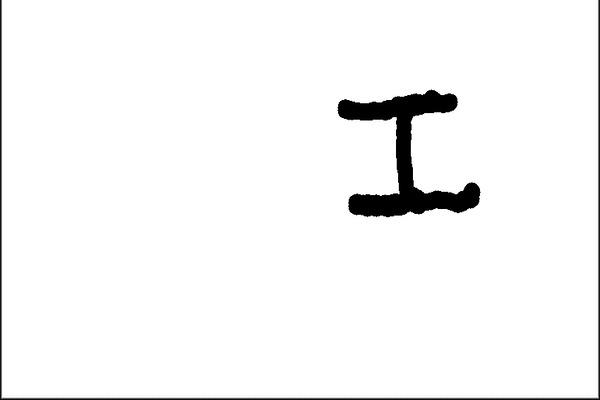i: (324, 80, 489, 223)
